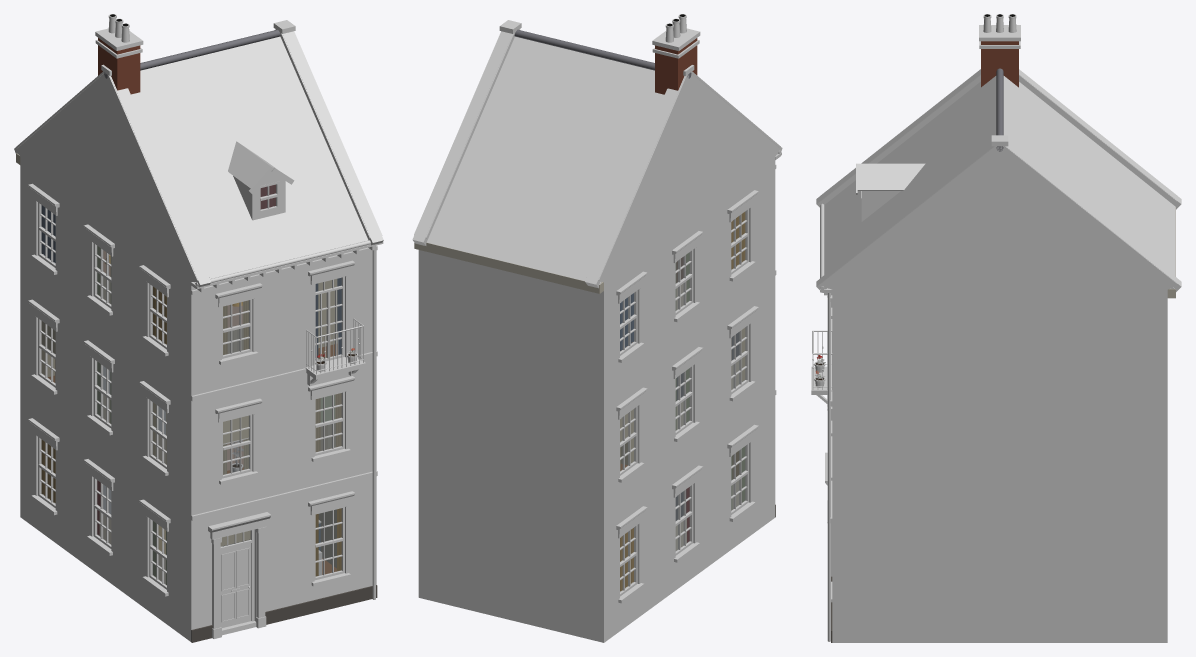
Rendered from Opposite_Opposite2_1.glb.
3 views of the same model, side by side, from view 1: azimuth 30°, elevation 25°; view 2: azimuth 150°, elevation 25°; view 3: azimuth 270°, elevation 25° (orthographic). The views are drawn at different scales.
Visible parts, largest first — view 1: Opposite_Opposite2_1; view 2: Opposite_Opposite2_1; view 3: Opposite_Opposite2_1.
Boxes of the visible parts, x1=… form: Opposite_Opposite2_1: x1=14, y1=14, x2=383, y2=642; Opposite_Opposite2_1: x1=412, y1=14, x2=782, y2=642; Opposite_Opposite2_1: x1=811, y1=14, x2=1181, y2=642.
Bounding box in the file's own units: 5.13 × 14.36 × 8.83.
